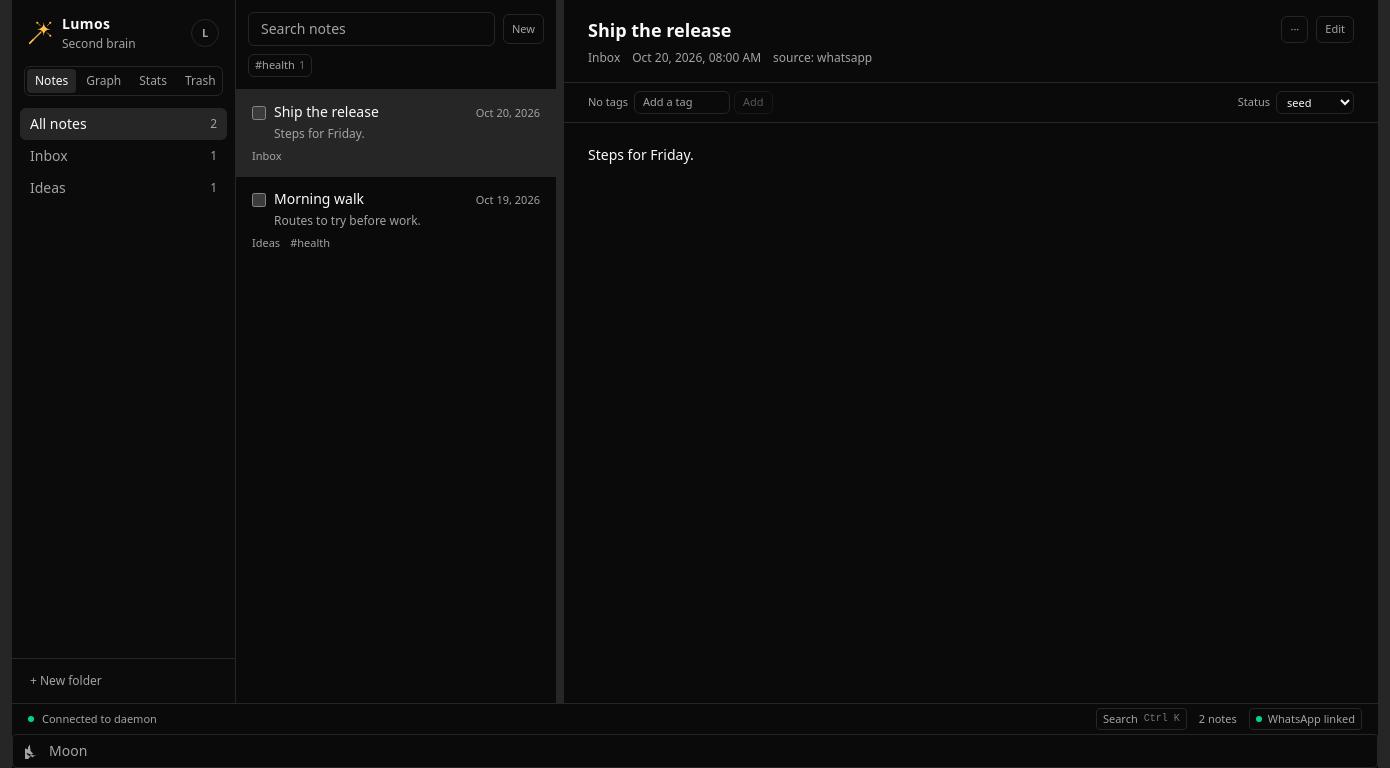
the shell's address › opens the profile from its avatar, and never the list beside it
Expected: the search field with placeholder "Search notes" is shown, [248,12,495,46]
Step 1. Click the button named "Profile" → (205,33), box [191,19,219,47]
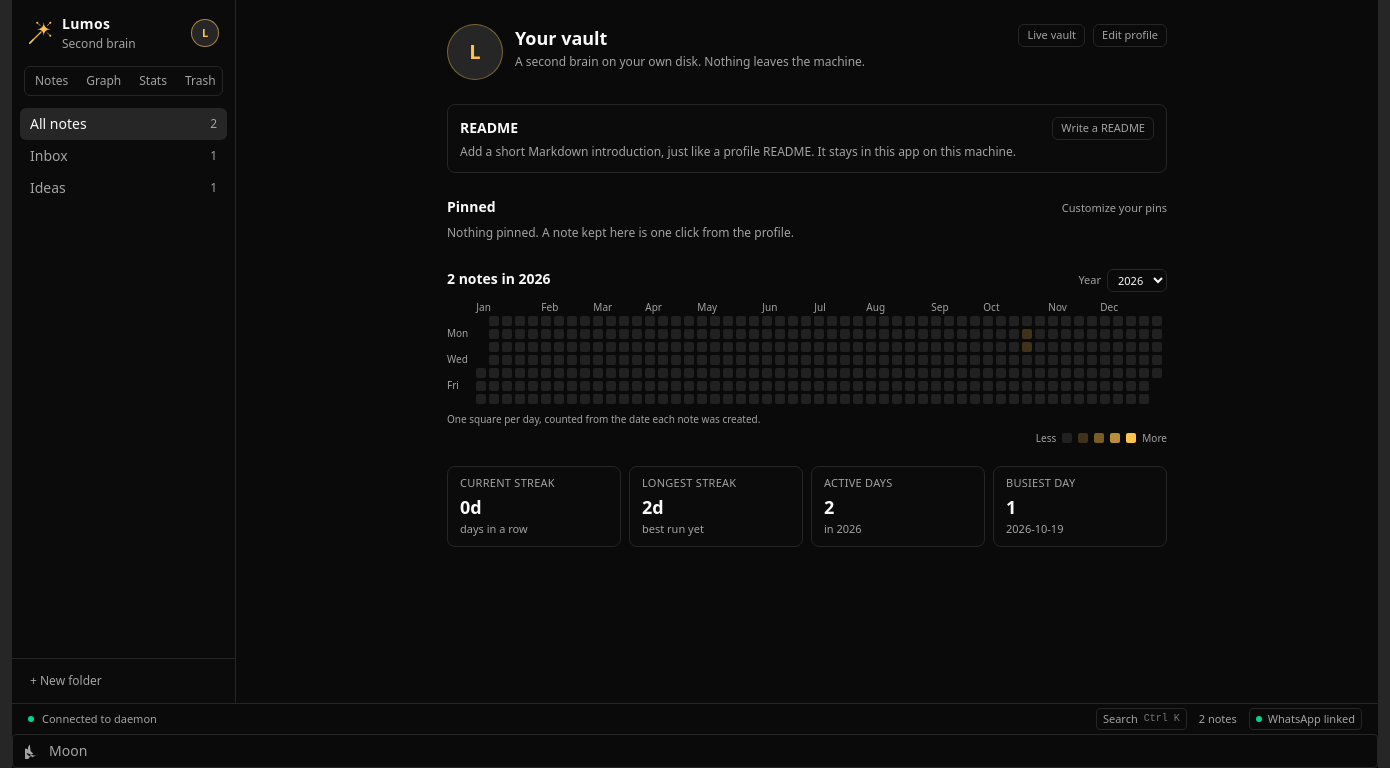
Expected: the field with placeholder "Search notes" is not shown
Expected: the element named "Profile" is shown, [447,24,1167,546]
